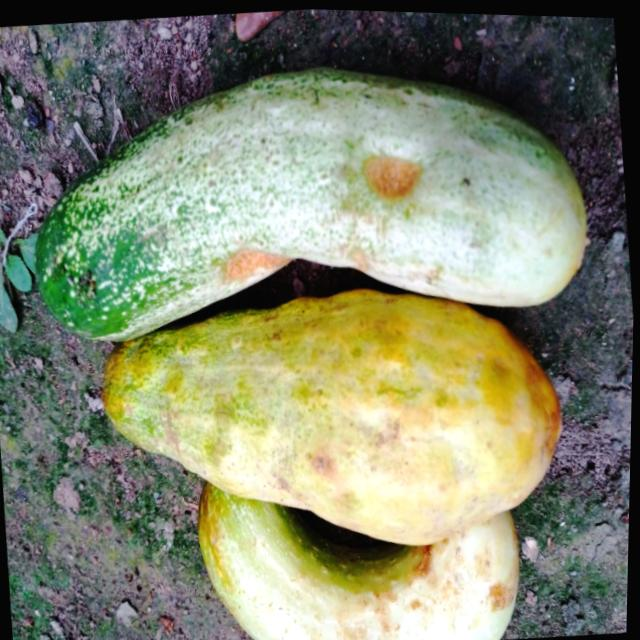Belly-Rot: (362, 531, 447, 640), (211, 227, 304, 293), (352, 138, 430, 207), (480, 550, 529, 617), (302, 439, 340, 483), (345, 238, 374, 273)
